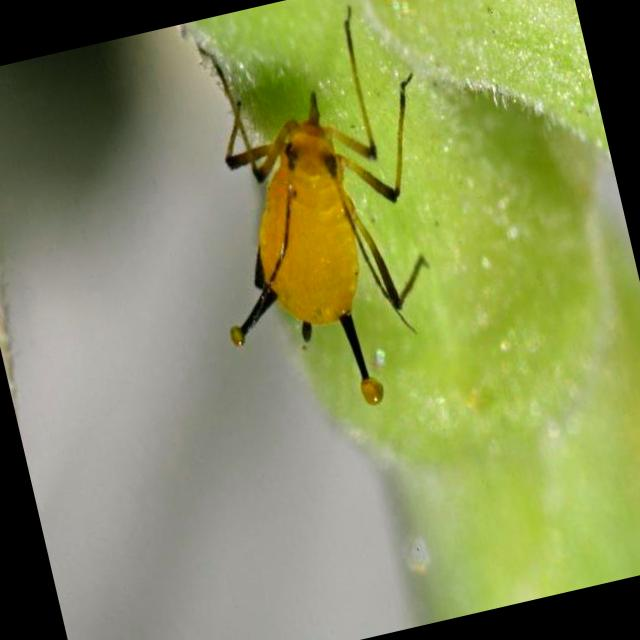aphid: (116, 0, 527, 507)
